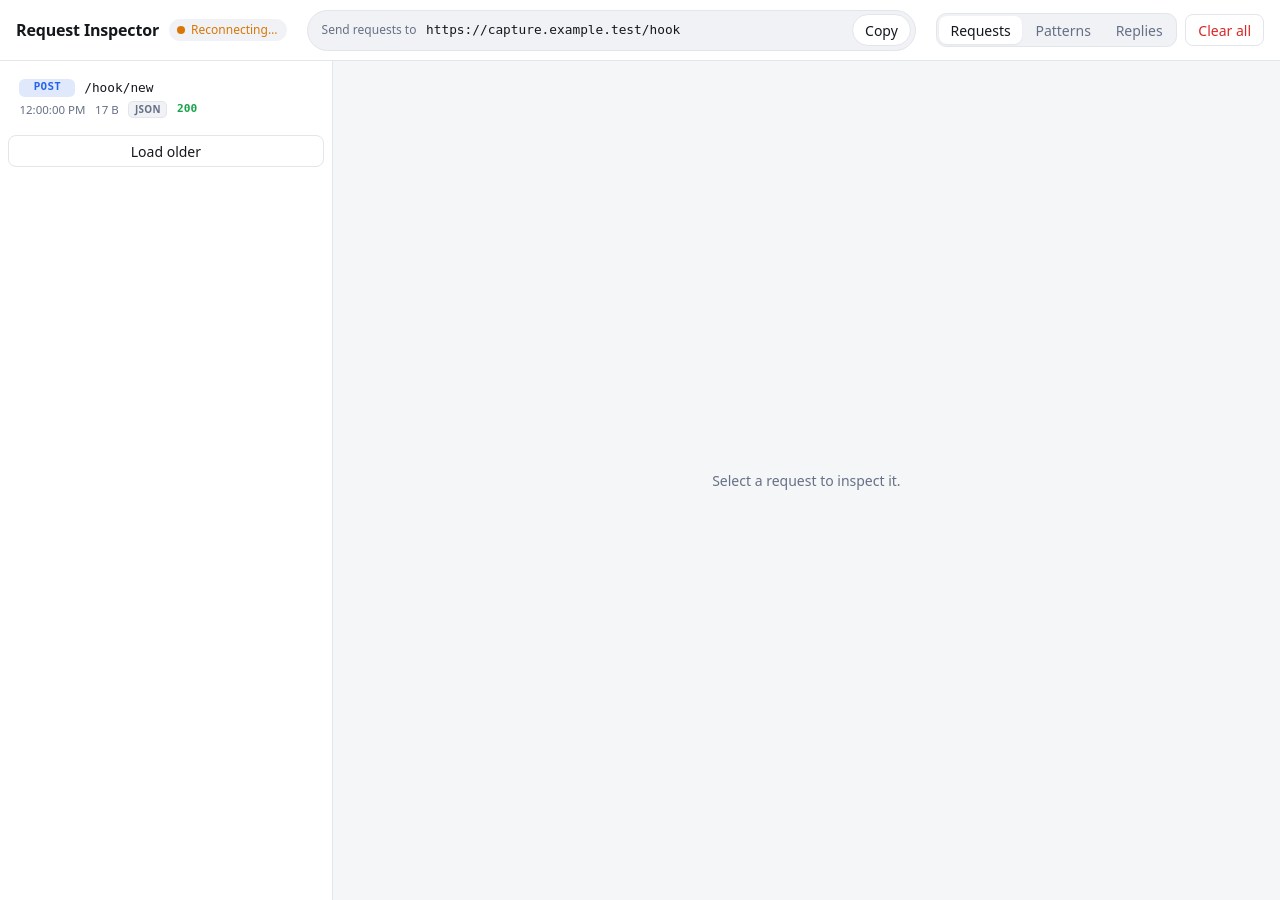
Scenario: request list and detail › loads older requests
Step 1. Click the button "Load older" → (166, 151), box [8,135,324,167]
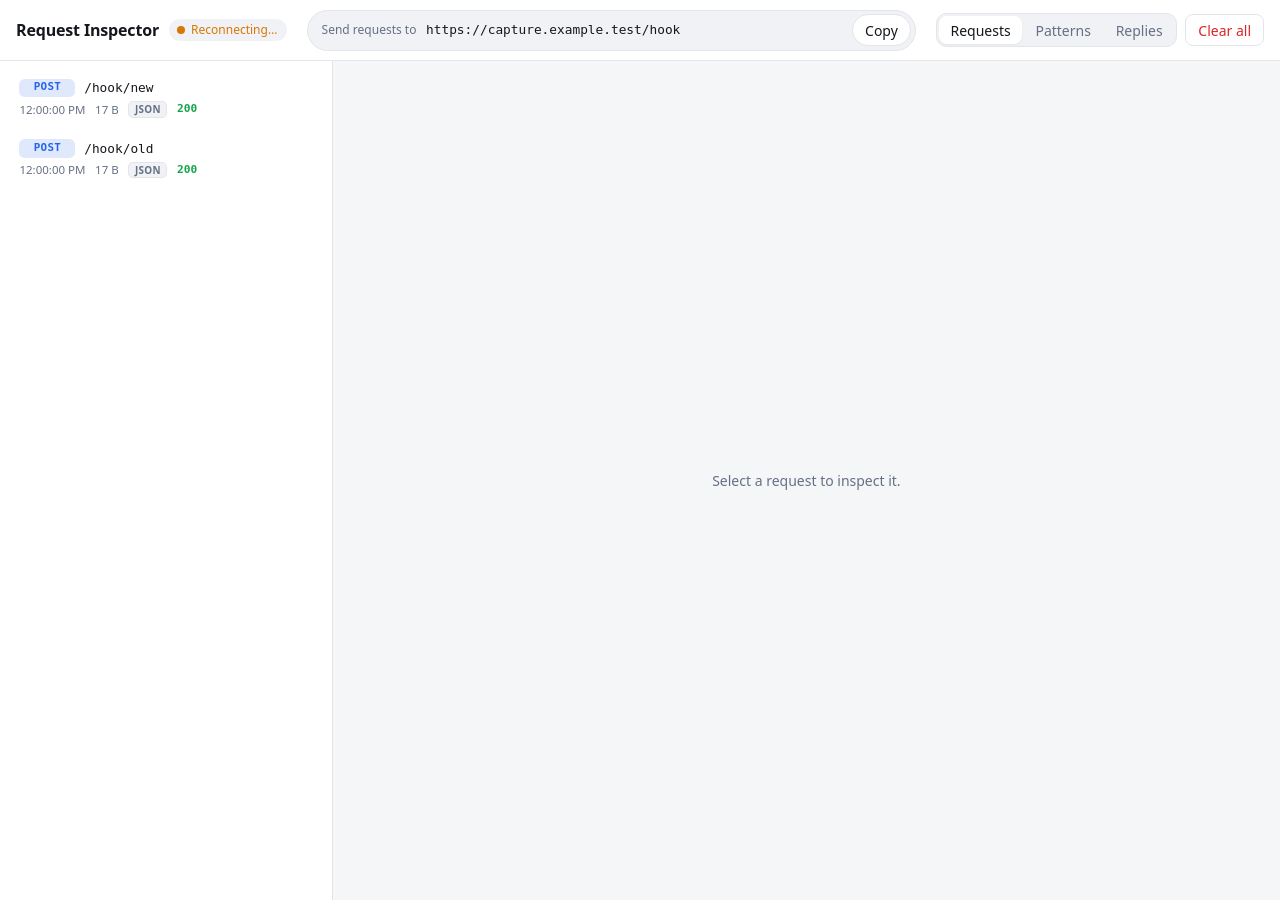
expect the text "/hook/new" is shown: met, box [84,78,154,97]
expect the text "/hook/old" is shown: met, box [84,139,154,158]
expect the button "Load older" is gone: met
